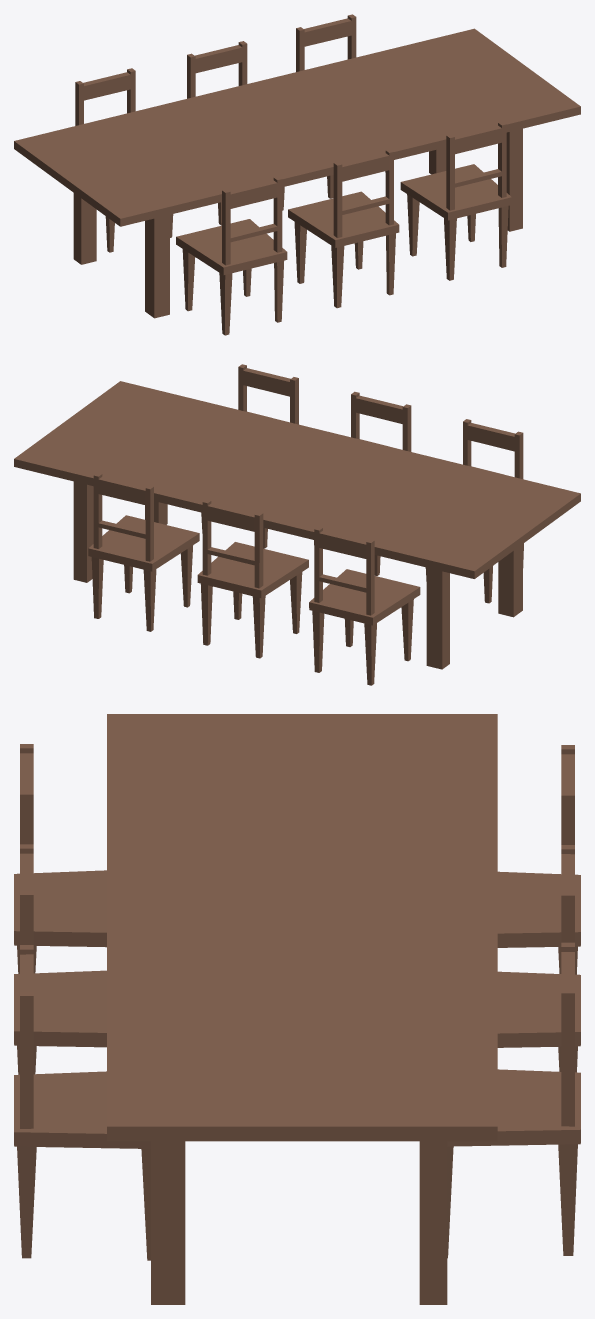
File: Table&Chairs.fbx
The picture shows the model from 3 angles, top to bottom: view 1: azimuth 30°, elevation 25°; view 2: azimuth 150°, elevation 25°; view 3: azimuth 270°, elevation 25°; orthographic projection. The views are drawn at different scales.
Parts seen in each view (by area): view 1: Kitchen_Tabel, Kitchen_Chair1, Kitchen_Chair2, Kitchen_Chair3, Kitchen_Chair4, Kitchen_Chair6, Kitchen_Chair5; view 2: Kitchen_Tabel, Kitchen_Chair5, Kitchen_Chair6, Kitchen_Chair4, Kitchen_Chair1, Kitchen_Chair2, Kitchen_Chair3; view 3: Kitchen_Tabel, Kitchen_Chair3, Kitchen_Chair6, Kitchen_Chair2, Kitchen_Chair1, Kitchen_Chair4, Kitchen_Chair5.
Part boxes in pixels (<box>): Kitchen_Tabel: <box>14,28,580,318</box>; Kitchen_Chair1: <box>176,176,287,335</box>; Kitchen_Chair2: <box>288,149,399,308</box>; Kitchen_Chair3: <box>400,121,511,280</box>; Kitchen_Chair4: <box>75,68,173,252</box>; Kitchen_Chair6: <box>296,14,385,198</box>; Kitchen_Chair5: <box>187,41,284,225</box>; Kitchen_Tabel: <box>14,381,580,669</box>; Kitchen_Chair5: <box>197,499,308,658</box>; Kitchen_Chair6: <box>88,473,199,631</box>; Kitchen_Chair4: <box>309,526,420,685</box>; Kitchen_Chair1: <box>425,419,523,603</box>; Kitchen_Chair2: <box>314,391,411,575</box>; Kitchen_Chair3: <box>201,364,298,548</box>; Kitchen_Tabel: <box>107,714,497,1304</box>; Kitchen_Chair3: <box>14,945,150,1260</box>; Kitchen_Chair6: <box>447,942,580,1258</box>; Kitchen_Chair2: <box>14,844,106,1074</box>; Kitchen_Chair1: <box>14,744,106,973</box>; Kitchen_Chair4: <box>497,745,580,974</box>; Kitchen_Chair5: <box>497,845,580,1072</box>.
Size of the model in its own units: 1251 by 371 by 726.
